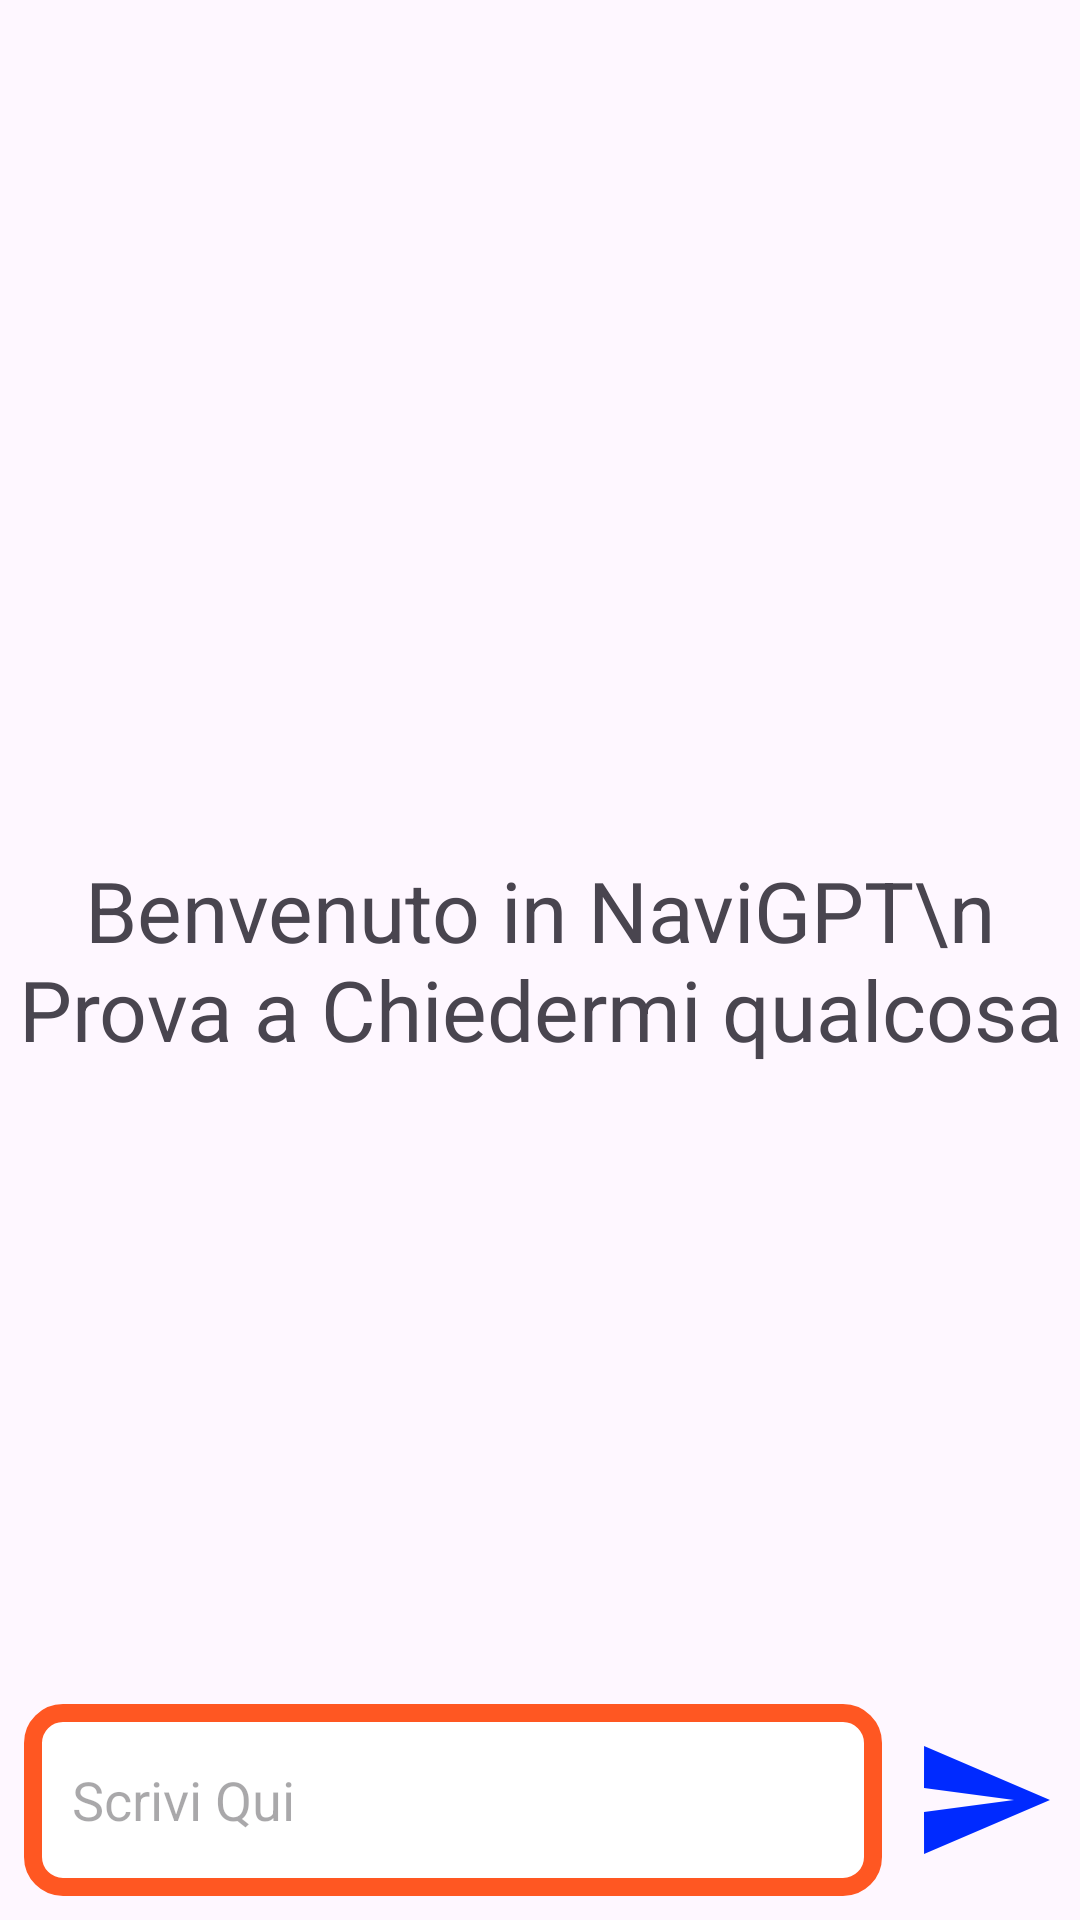

Screen size 1080px×1920px. Icon name, then its center in pixels as point (x, y):
send: point (987, 1800)
